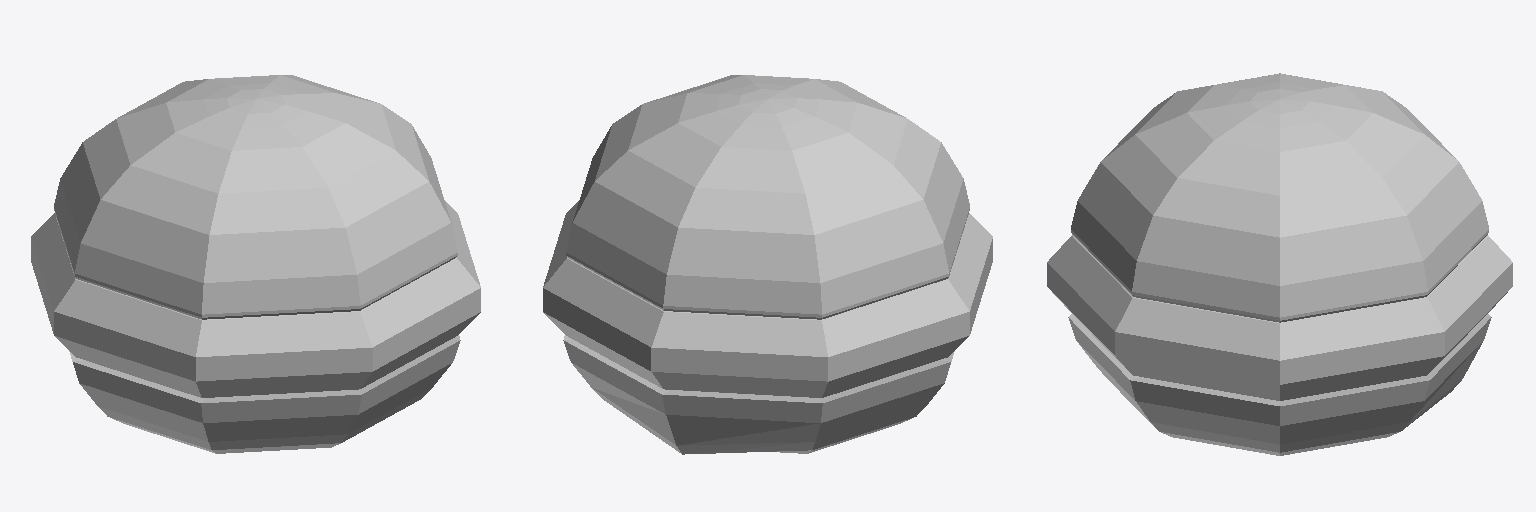
Rendered from Hamburger.obj.
3 renders of one model, left to right at view 1: azimuth 30°, elevation 25°; view 2: azimuth 150°, elevation 25°; view 3: azimuth 270°, elevation 25°, orthographic.
Parts seen in each view (by area): view 1: Paty panArriba, Paty, Paty PanAbajo; view 2: Paty panArriba, Paty, Paty PanAbajo; view 3: Paty panArriba, Paty, Paty PanAbajo.
Boxes of the visible parts, x1,y1,x2,y2 form: Paty panArriba: [54, 75, 457, 319]; Paty: [31, 201, 480, 397]; Paty PanAbajo: [69, 335, 460, 453]; Paty panArriba: [566, 75, 969, 319]; Paty: [543, 201, 992, 397]; Paty PanAbajo: [563, 335, 954, 454]; Paty panArriba: [1071, 73, 1488, 322]; Paty: [1047, 235, 1512, 400]; Paty PanAbajo: [1068, 314, 1491, 455].
Bounding box in the file's own units: 94.87 × 70.34 × 94.87.